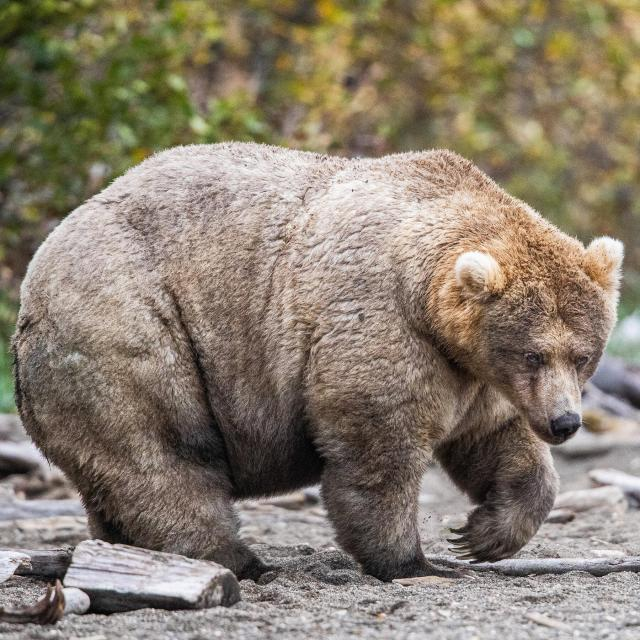Bear: (12, 142, 626, 585)
